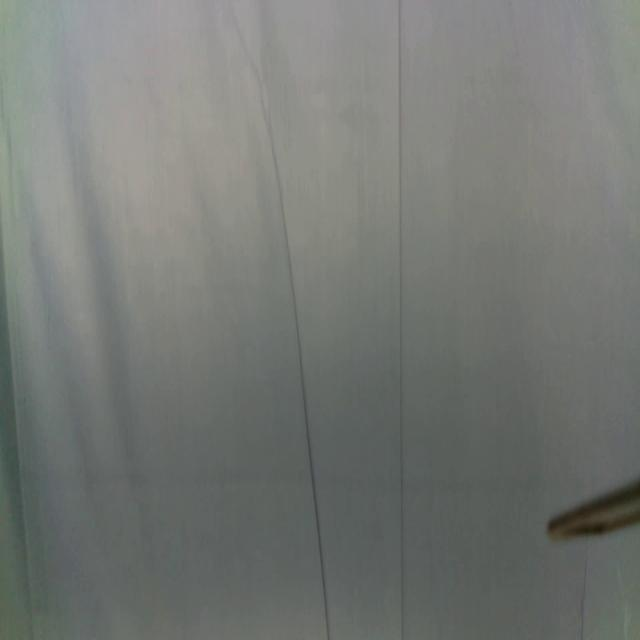color bleeding: (0, 461, 570, 510)
crease: (235, 5, 331, 640), (0, 225, 36, 639), (394, 0, 408, 637), (578, 549, 591, 640)
